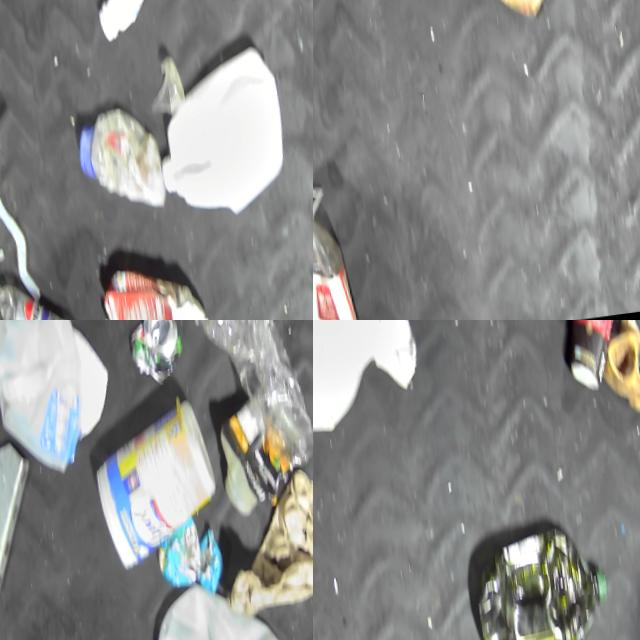can: (123, 320, 190, 388), (476, 0, 566, 28)
milk_jug: (147, 37, 295, 231), (0, 320, 91, 483), (140, 567, 305, 640), (313, 320, 391, 438)
non_white_jug: (466, 518, 619, 640)
plastic_bottle: (0, 265, 85, 320)
